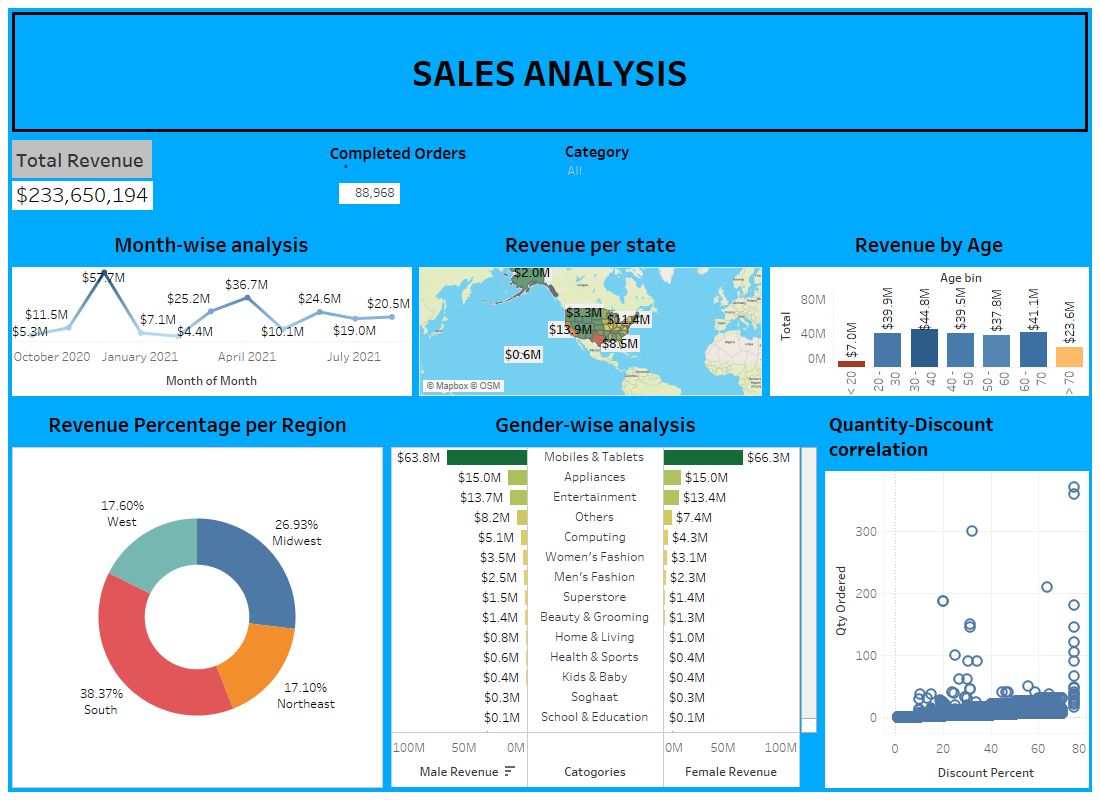

What the dashboard file says about the page in this screenshot:
{"tool":"tableau","page":{"name":"Dashboard 1","canvas":[1200,800],"ordinal":0},"visuals":[{"type":"worksheet","title":"Total Revenue","mark":"Automatic","box":[733,73,379,75]},{"type":"text","box":[0,79,426,52]},{"type":"filter","title":"Gender-wise analysis","param":"[federated.1u93n1x06jdb0n12q80sa0sknwr5].[none:category:nk]","box":[355,79,310,62]},{"type":"blank","box":[1,145,1200,3]},{"type":"worksheet","title":"Revenue by Age","mark":"Automatic","rows":["total"],"cols":["Age (bin)"],"box":[727,148,411,231]},{"type":"worksheet","title":"Revenue per state","mark":"Automatic","box":[368,151,359,228]},{"type":"worksheet","title":"Month-wise analysis","mark":"Automatic","rows":["total"],"cols":["month"],"box":[3,152,366,227]},{"type":"worksheet","title":"Gender-wise analysis","mark":"Automatic","rows":["category"],"cols":["Calculation_535646921738031106","Calculation_535646921734791168","Calculation_535646921737654273"],"box":[369,410,406,239]},{"type":"worksheet","title":"Revenue Percentage per Region","mark":"Pie","rows":["Calculation_535646921734791168","Calculation_535646921734791168"],"box":[0,411,370,238]},{"type":"worksheet","title":"Quantity-Discount correlation","mark":"Automatic","rows":["qty_ordered"],"cols":["Discount_Percent"],"box":[773,411,364,239]}]}

Visuals, with their boxes on the page's 1200x800 design canvas (x1, y1, x2, y2). These are canvas units, not pixel positions in the 1100x800 screenshot, which may show the page scaled, cropped or inside an application window:
"Total Revenue" worksheet: {"left": 733, "top": 73, "right": 1112, "bottom": 148}
text: {"left": 0, "top": 79, "right": 426, "bottom": 131}
"Gender-wise analysis" filter: {"left": 355, "top": 79, "right": 665, "bottom": 141}
blank: {"left": 1, "top": 145, "right": 1201, "bottom": 148}
"Revenue by Age" worksheet: {"left": 727, "top": 148, "right": 1138, "bottom": 379}
"Revenue per state" worksheet: {"left": 368, "top": 151, "right": 727, "bottom": 379}
"Month-wise analysis" worksheet: {"left": 3, "top": 152, "right": 369, "bottom": 379}
"Gender-wise analysis" worksheet: {"left": 369, "top": 410, "right": 775, "bottom": 649}
"Revenue Percentage per Region" worksheet (Pie marks): {"left": 0, "top": 411, "right": 370, "bottom": 649}
"Quantity-Discount correlation" worksheet: {"left": 773, "top": 411, "right": 1137, "bottom": 650}
